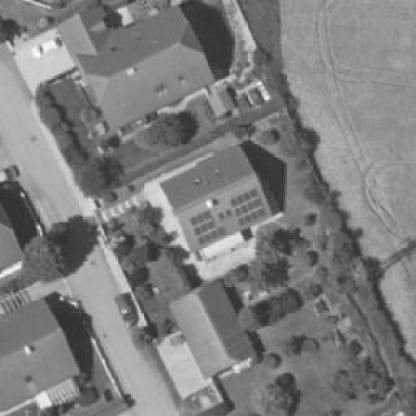solar-pv-panel: (229, 187, 268, 229), (189, 209, 226, 245)
